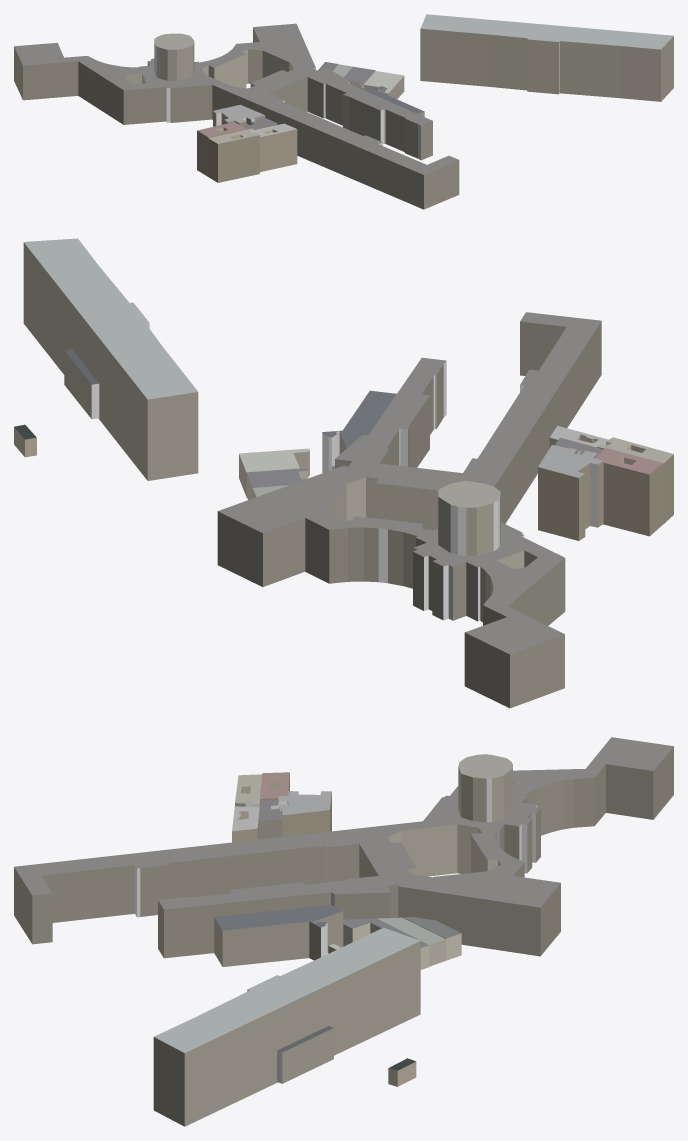
3 views of the same model, one above another, from view 1: azimuth 30°, elevation 25°; view 2: azimuth 150°, elevation 25°; view 3: azimuth 270°, elevation 25° (orthographic). The views are drawn at different scales.
Visible parts, largest first — view 1: tuile; view 2: tuile; view 3: tuile.
Part boxes in pixels (box(x1,y1,x2,y2)): tuile: box(14, 14, 673, 209); tuile: box(14, 238, 673, 708); tuile: box(14, 737, 673, 1126).
Bounding box in the file's own units: 261 × 34.82 × 212.
